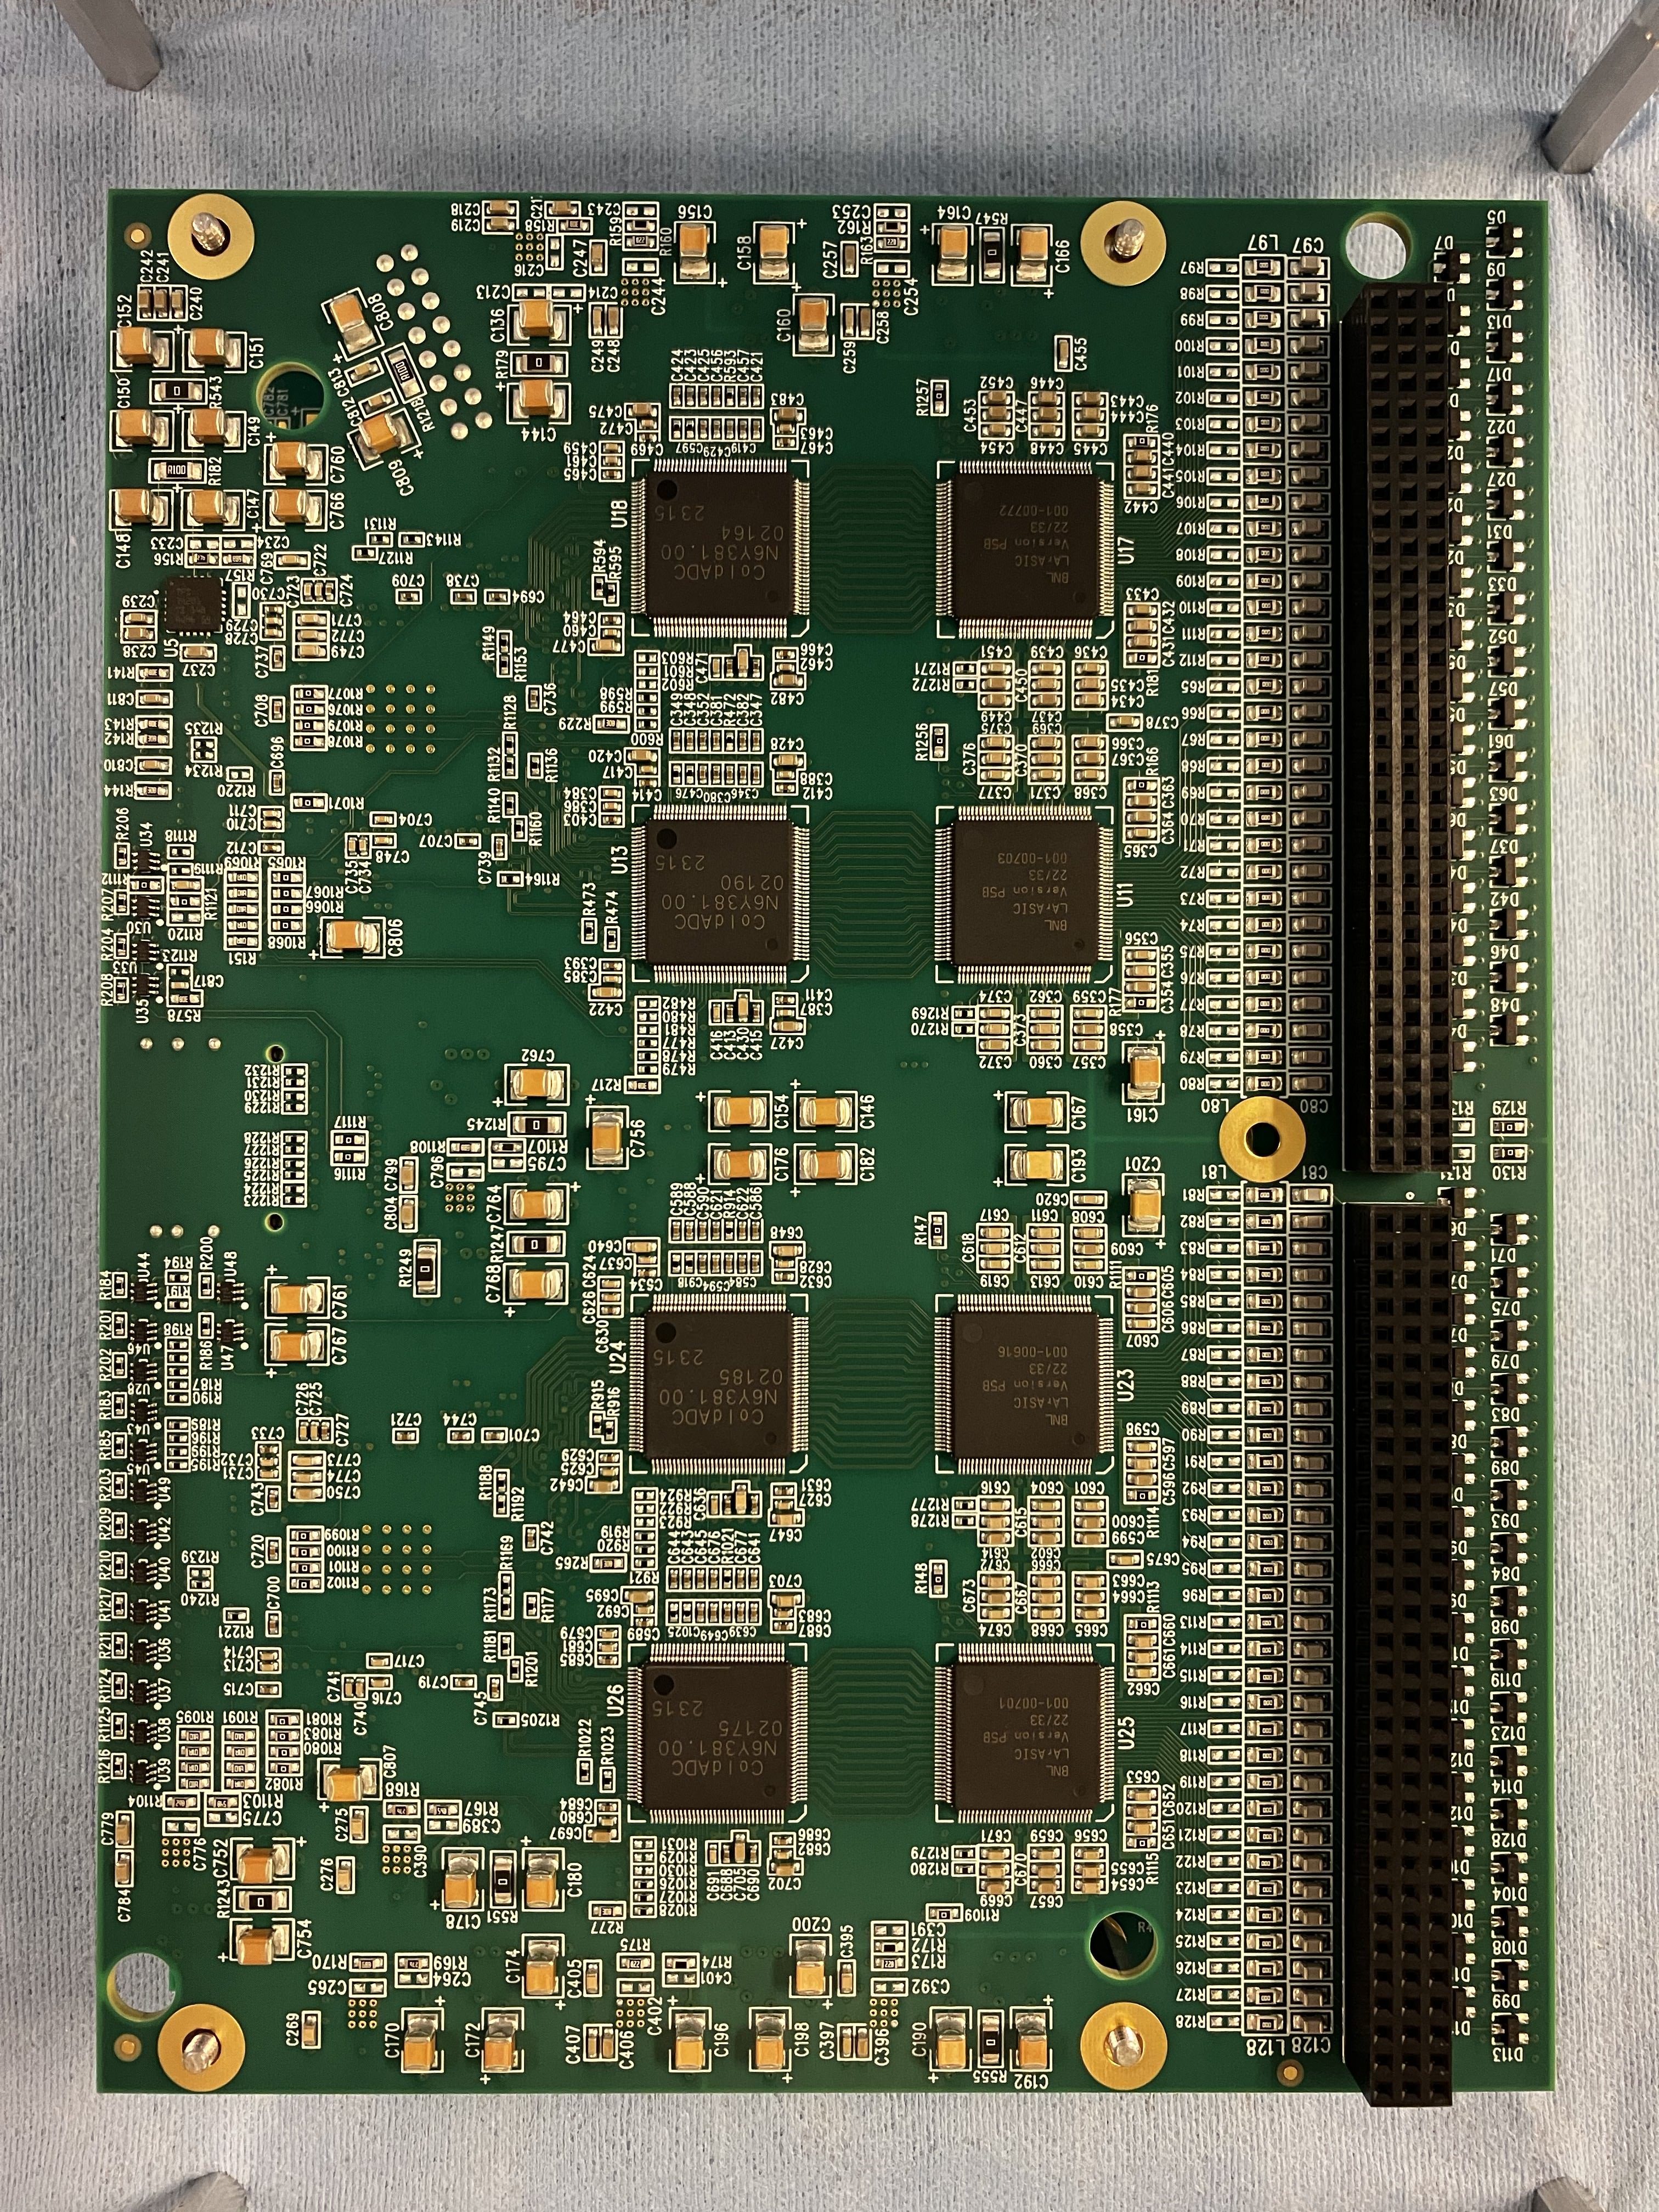chip: (645, 469, 793, 620), (950, 470, 1098, 622), (645, 819, 793, 970), (951, 817, 1100, 968), (643, 1308, 791, 1460), (953, 1310, 1101, 1461), (641, 1662, 789, 1813), (950, 1658, 1098, 1810)
